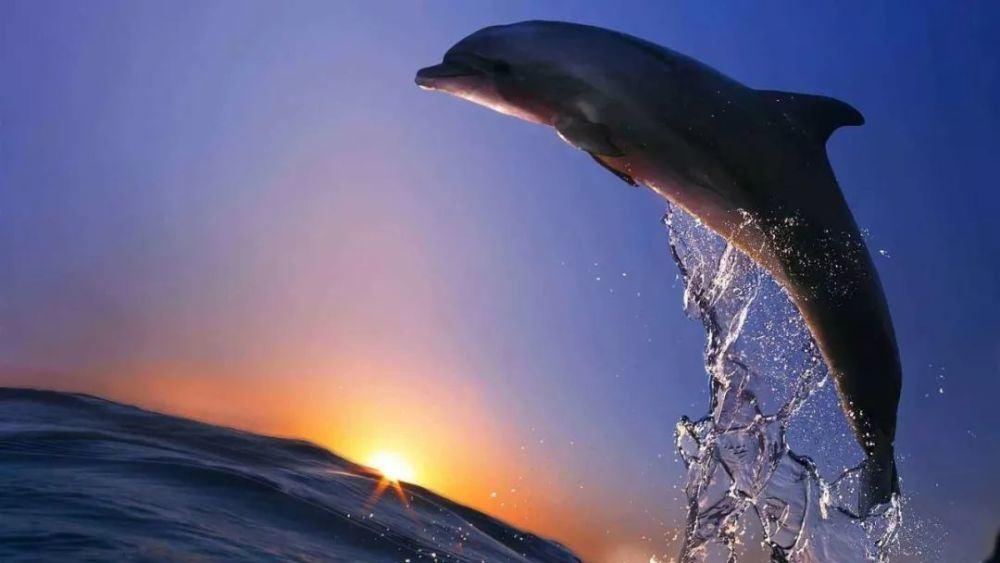fish: (413, 12, 903, 518)
